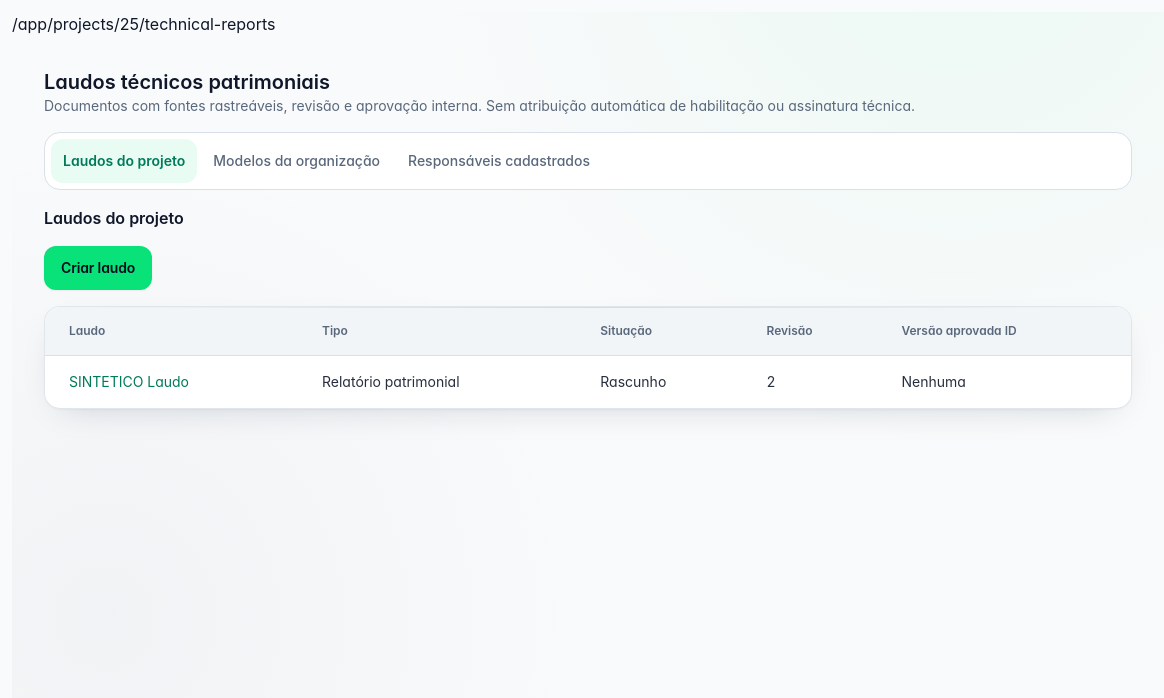
Scenario: Project technical report navigation and editing › keeps project identity through list, templates, responsible registry and return
Expected: the link "SINTETICO Laudo" is shown, [69, 373, 189, 390]
Click the link "Modelos da organização": click(297, 160) [213, 152, 380, 169]
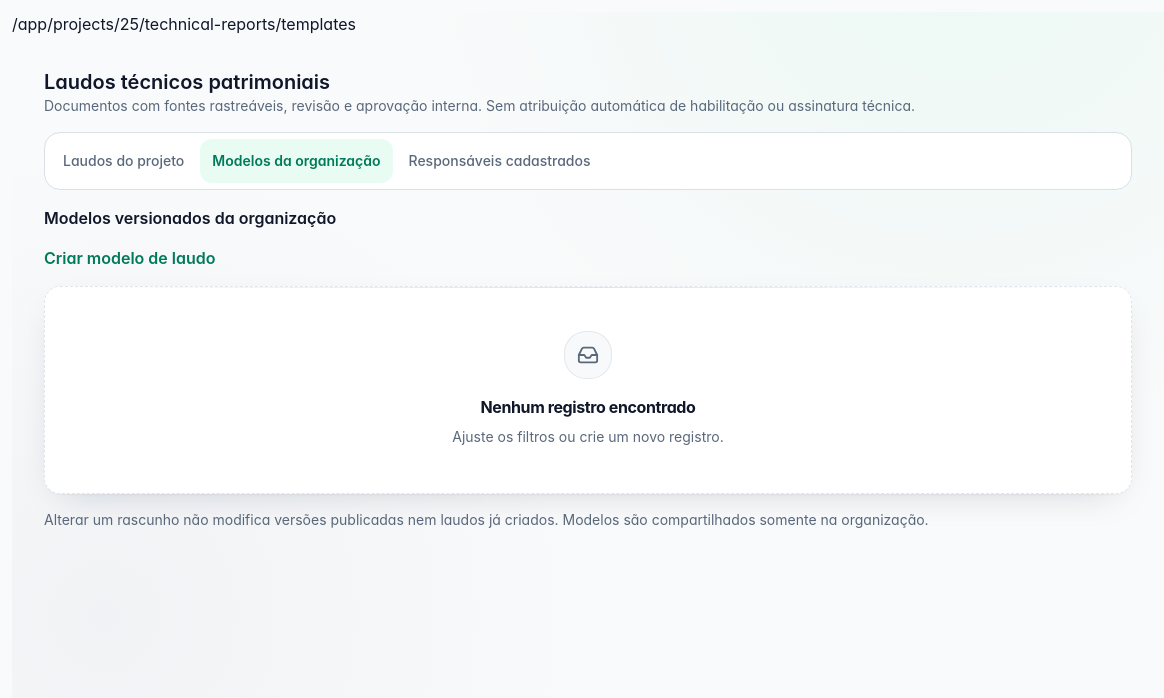
Expected: the heading "Modelos versionados da organização" is shown, [44, 208, 336, 228]
Expected: the text with test id "location" shows "/projects/25/technical-reports/templates", [12, 14, 356, 34]
Click the link "Responsáveis cadastrados": click(500, 160) [408, 152, 590, 169]
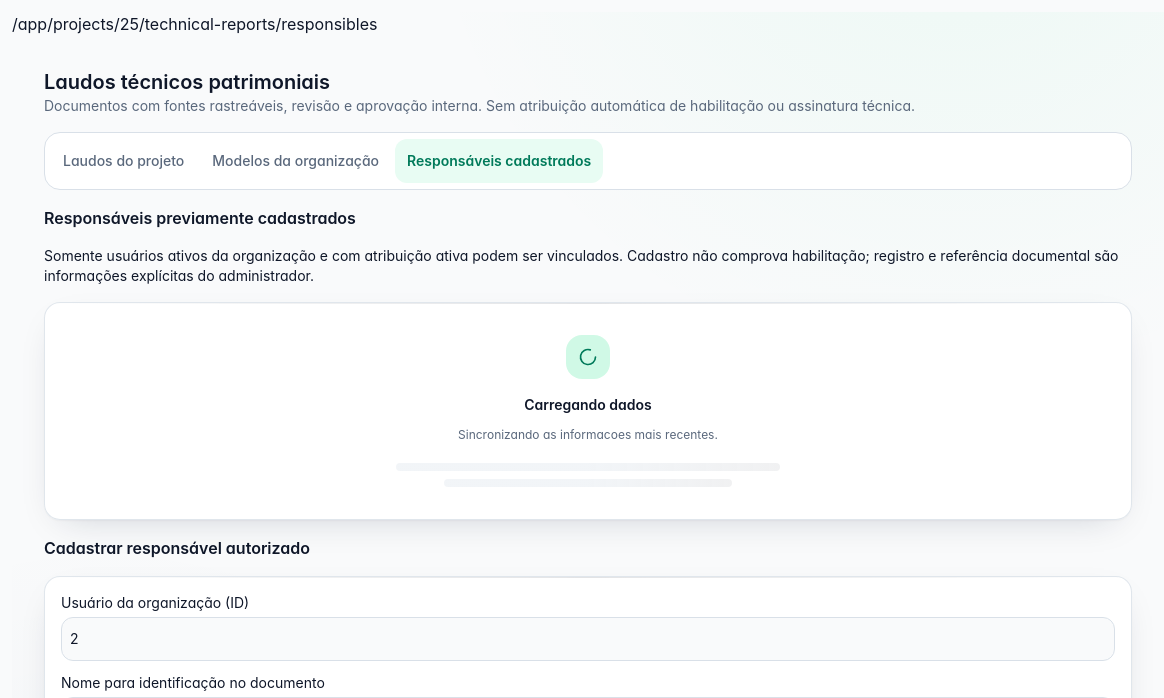
Expected: the heading "Responsáveis previamente cadastrados" is shown, [44, 208, 356, 228]
Click the link "Laudos do projeto": click(124, 160) [63, 152, 184, 169]
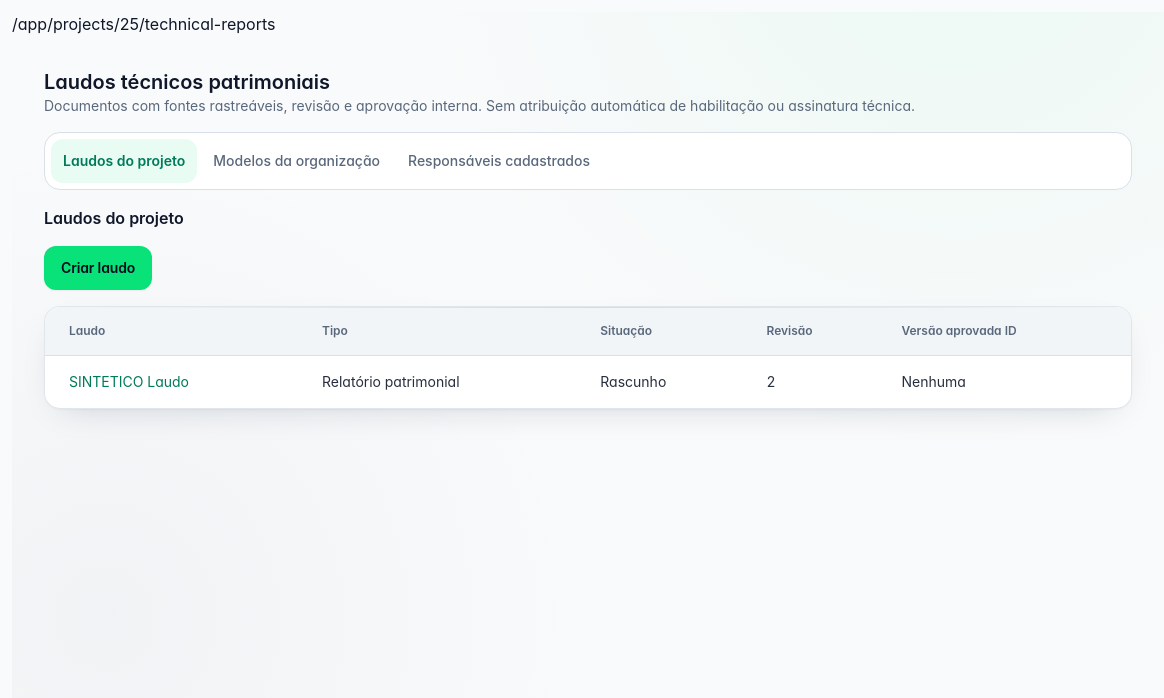
Expected: the navigation bar named "Navegação dos laudos" is shown, [44, 132, 1132, 190]
Expected: the link "SINTETICO Laudo" is shown, [69, 373, 189, 390]
